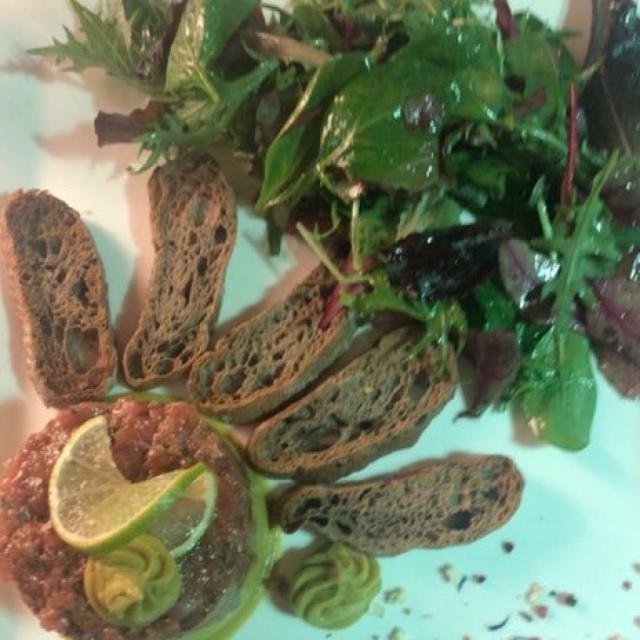avocado: (90, 424, 379, 638)
bread: (0, 160, 538, 560)
salad: (83, 8, 610, 405)
